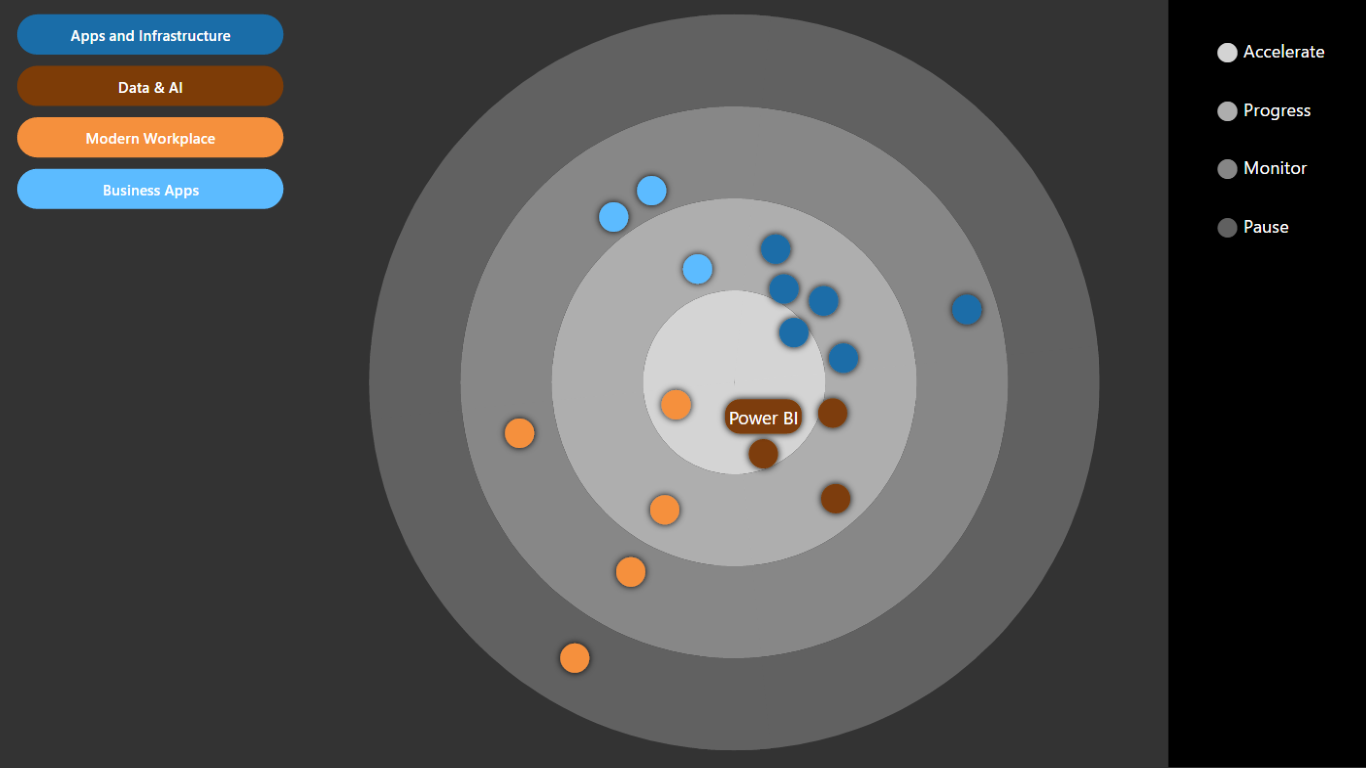

What the dashboard file says about the page in this screenshot:
{"tool":"powerbi","page":{"name":"Page 1","canvas":[1280,720],"ordinal":0},"visuals":[{"type":"radarCFE3A42CE23743BD8E313C30A2483BCA","fields":{"description":["points.description"],"name":["points.name"],"ring":["points.ring"],"sector":["points.sector"]},"box":[0.9,0.9,1278.2,718.3],"z":1}]}

Visuals, with their boxes in screenshot pixels (x1, y1, x2, y2), scaled from the page's 1280x720 canvas onto the 1366x768 screenshot:
radarCFE3A42CE23743BD8E313C30A2483BCA - points.description x points.name: pyautogui.locateOnScreen(1, 1, 1365, 767)
